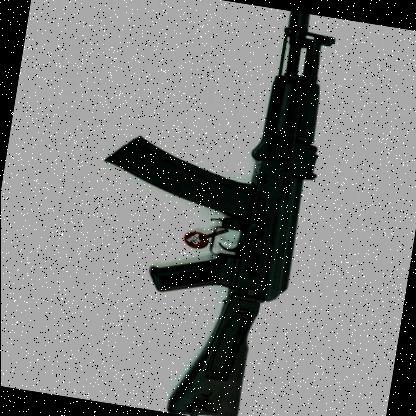rifle: (71, 0, 367, 416)
